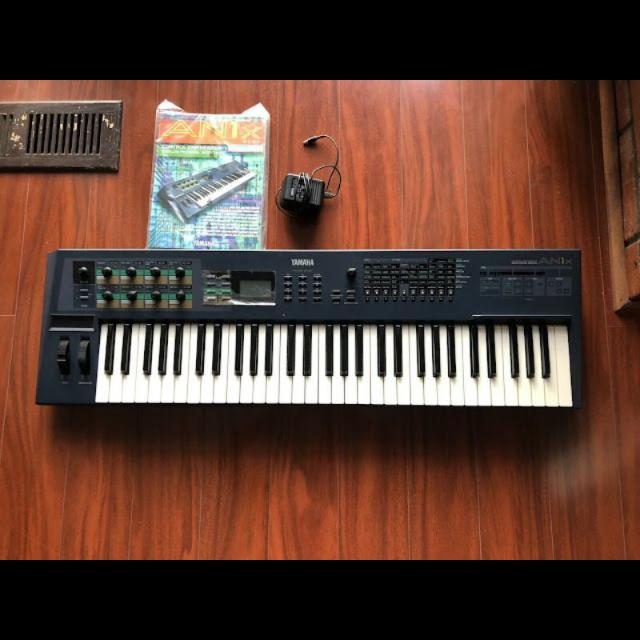Electronic-Keyboard: (28, 238, 592, 424)
